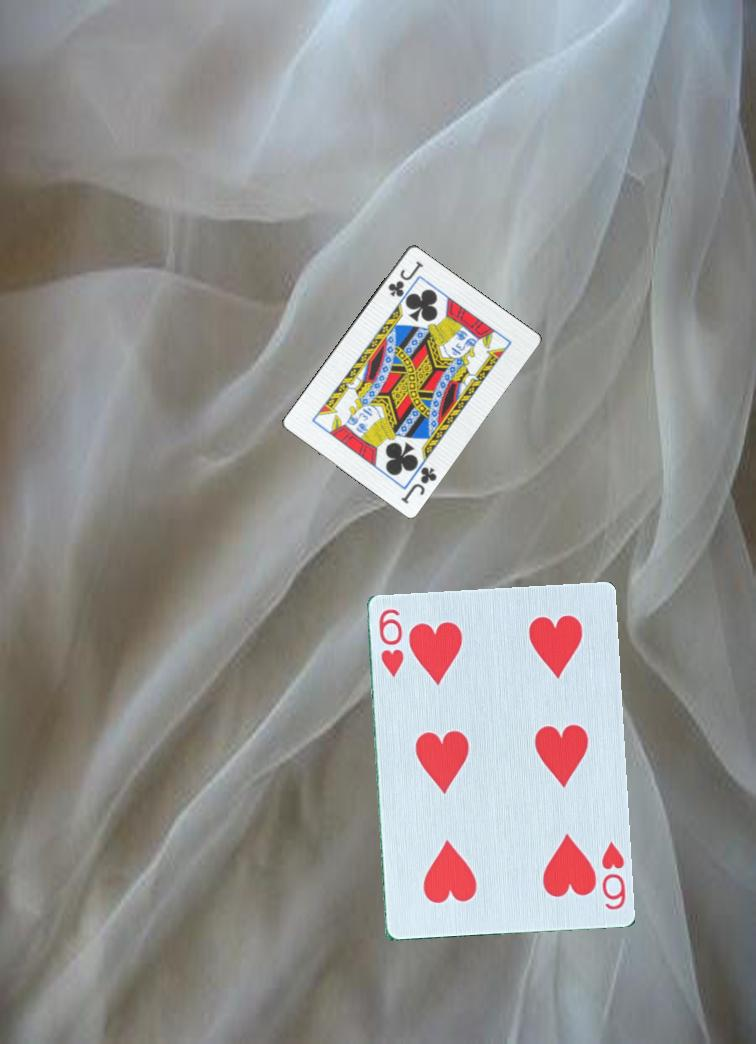6h: (374, 605, 406, 680), (597, 837, 628, 912)
jc: (397, 463, 440, 507), (384, 257, 426, 300)
